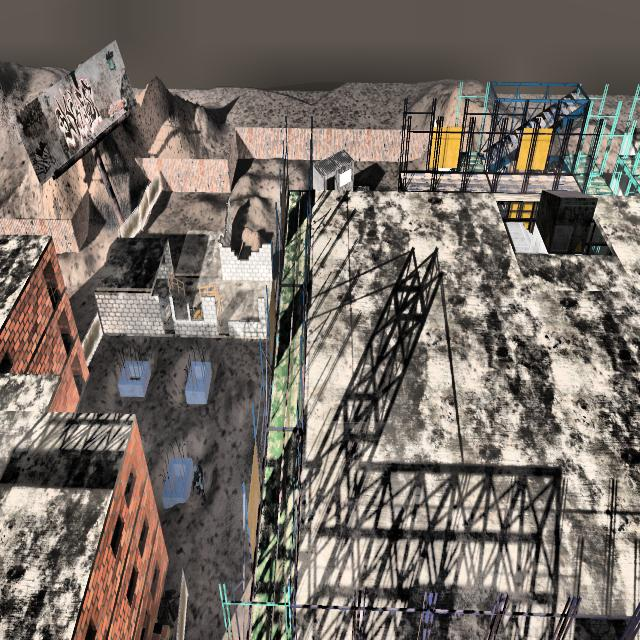bad: (190, 452, 208, 508)
